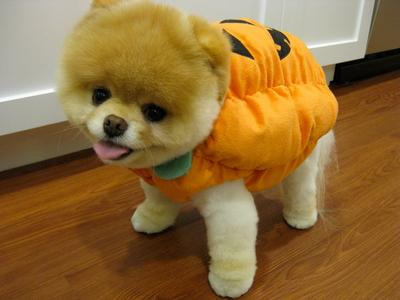pomeranian: (53, 1, 335, 300)
